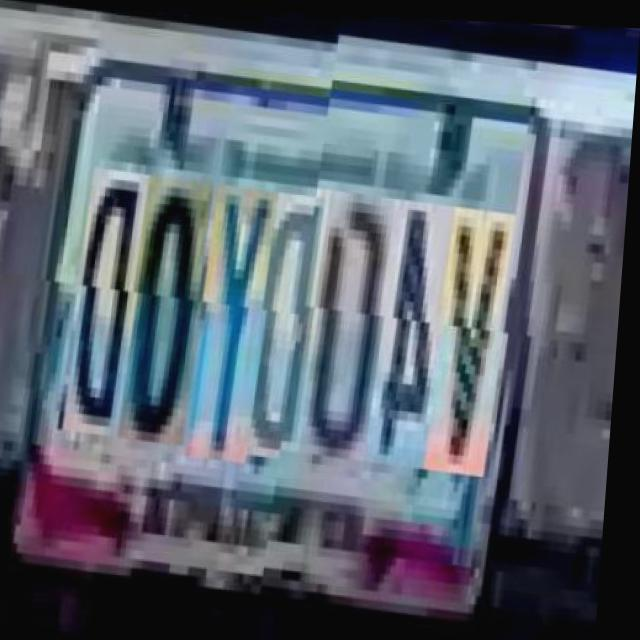0: (306, 202, 400, 471)
4: (372, 208, 461, 477)
d: (247, 195, 336, 464), (71, 177, 157, 446)
o: (127, 183, 221, 452)
v: (431, 214, 520, 483)
y: (194, 190, 285, 470)
